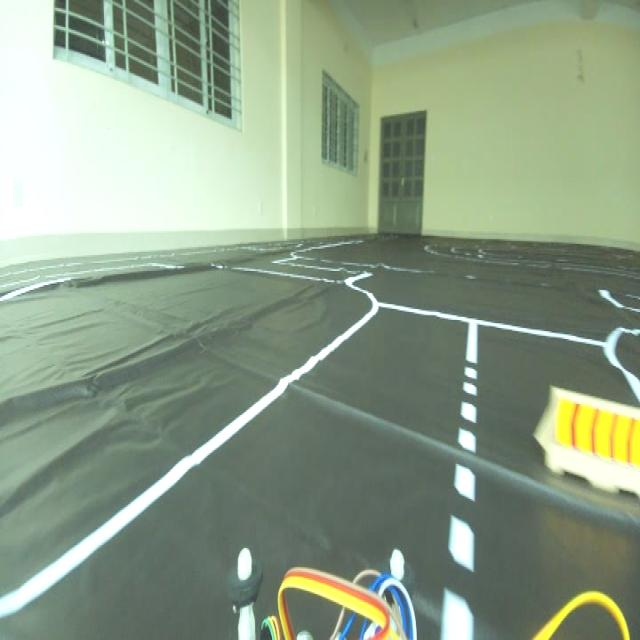roadblock: (526, 360, 640, 514)
